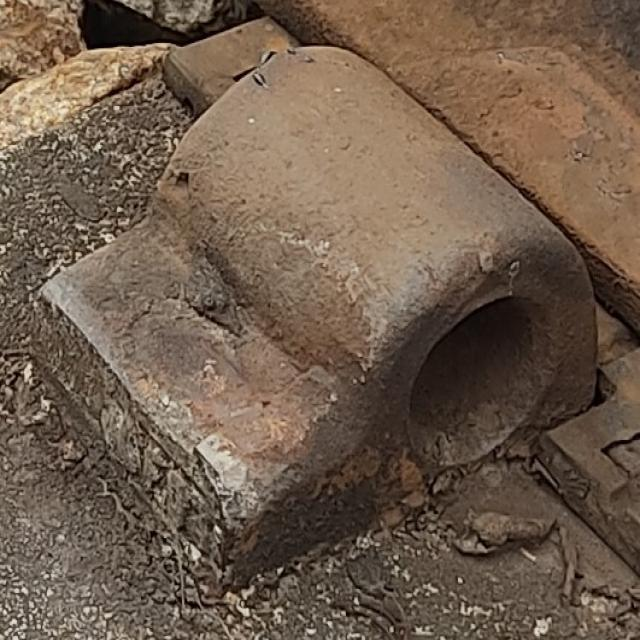track_bolt_missing: (148, 35, 601, 408)
